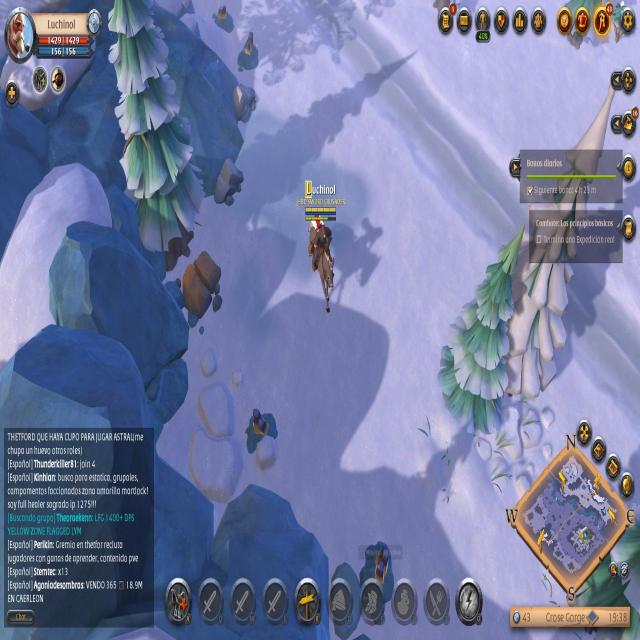piedra_cobre: (246, 403, 280, 456), (237, 31, 259, 73), (210, 2, 236, 37)
